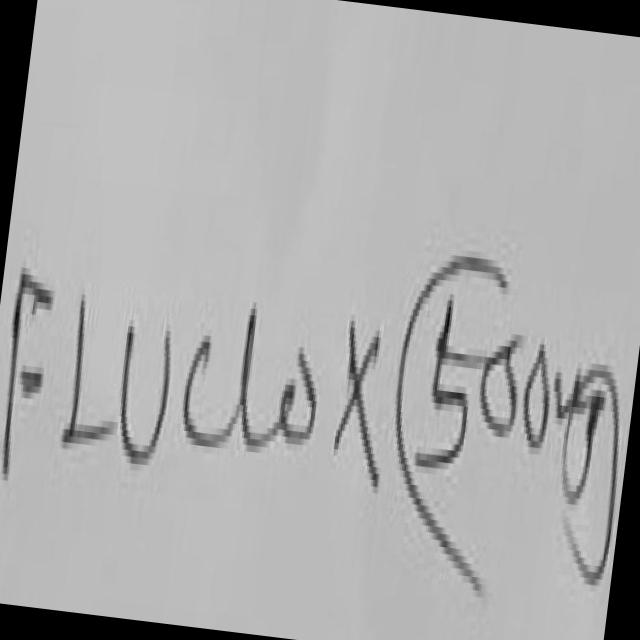0: (468, 304, 531, 470), (512, 304, 562, 478)
5: (406, 273, 490, 494)
F: (0, 213, 82, 538)
c: (170, 300, 242, 472)
g: (566, 343, 610, 521)
l: (49, 264, 128, 470), (222, 266, 284, 470)
m: (544, 334, 592, 438)
o: (263, 304, 333, 468)
u: (96, 265, 196, 519)
x: (320, 273, 404, 498)
